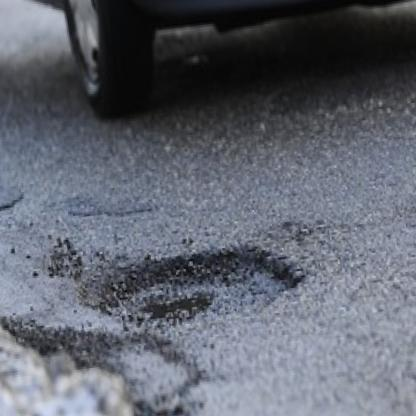pothole: (97, 237, 301, 327)
